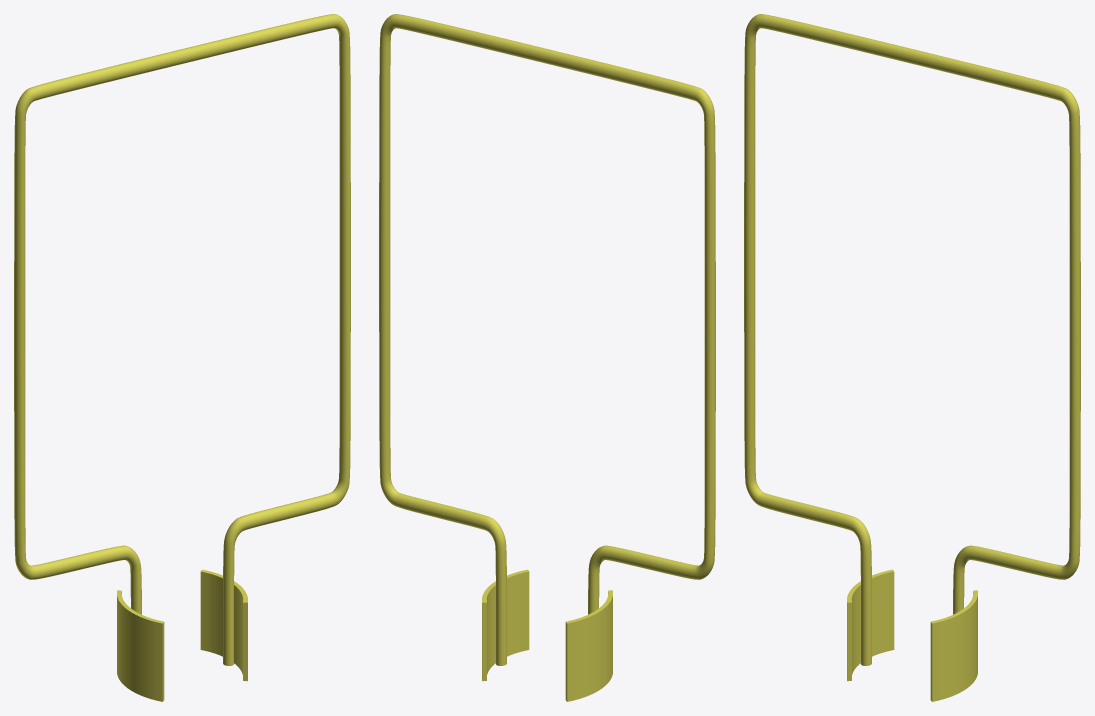
The model's file is рамка_мини.fbx.
The picture shows the model from 3 angles, left to right: view 1: azimuth 30°, elevation 25°; view 2: azimuth 150°, elevation 25°; view 3: azimuth 330°, elevation 25°; orthographic projection.
Parts seen in each view (by area): view 1: coil.001; view 2: coil.001; view 3: coil.001.
Part boxes in pixels (x1=…): coil.001: x1=14, y1=14, x2=350, y2=701; coil.001: x1=379, y1=14, x2=715, y2=701; coil.001: x1=744, y1=14, x2=1080, y2=701.
Size of the model in its own units: 25.05 by 44.7 by 5.9.
